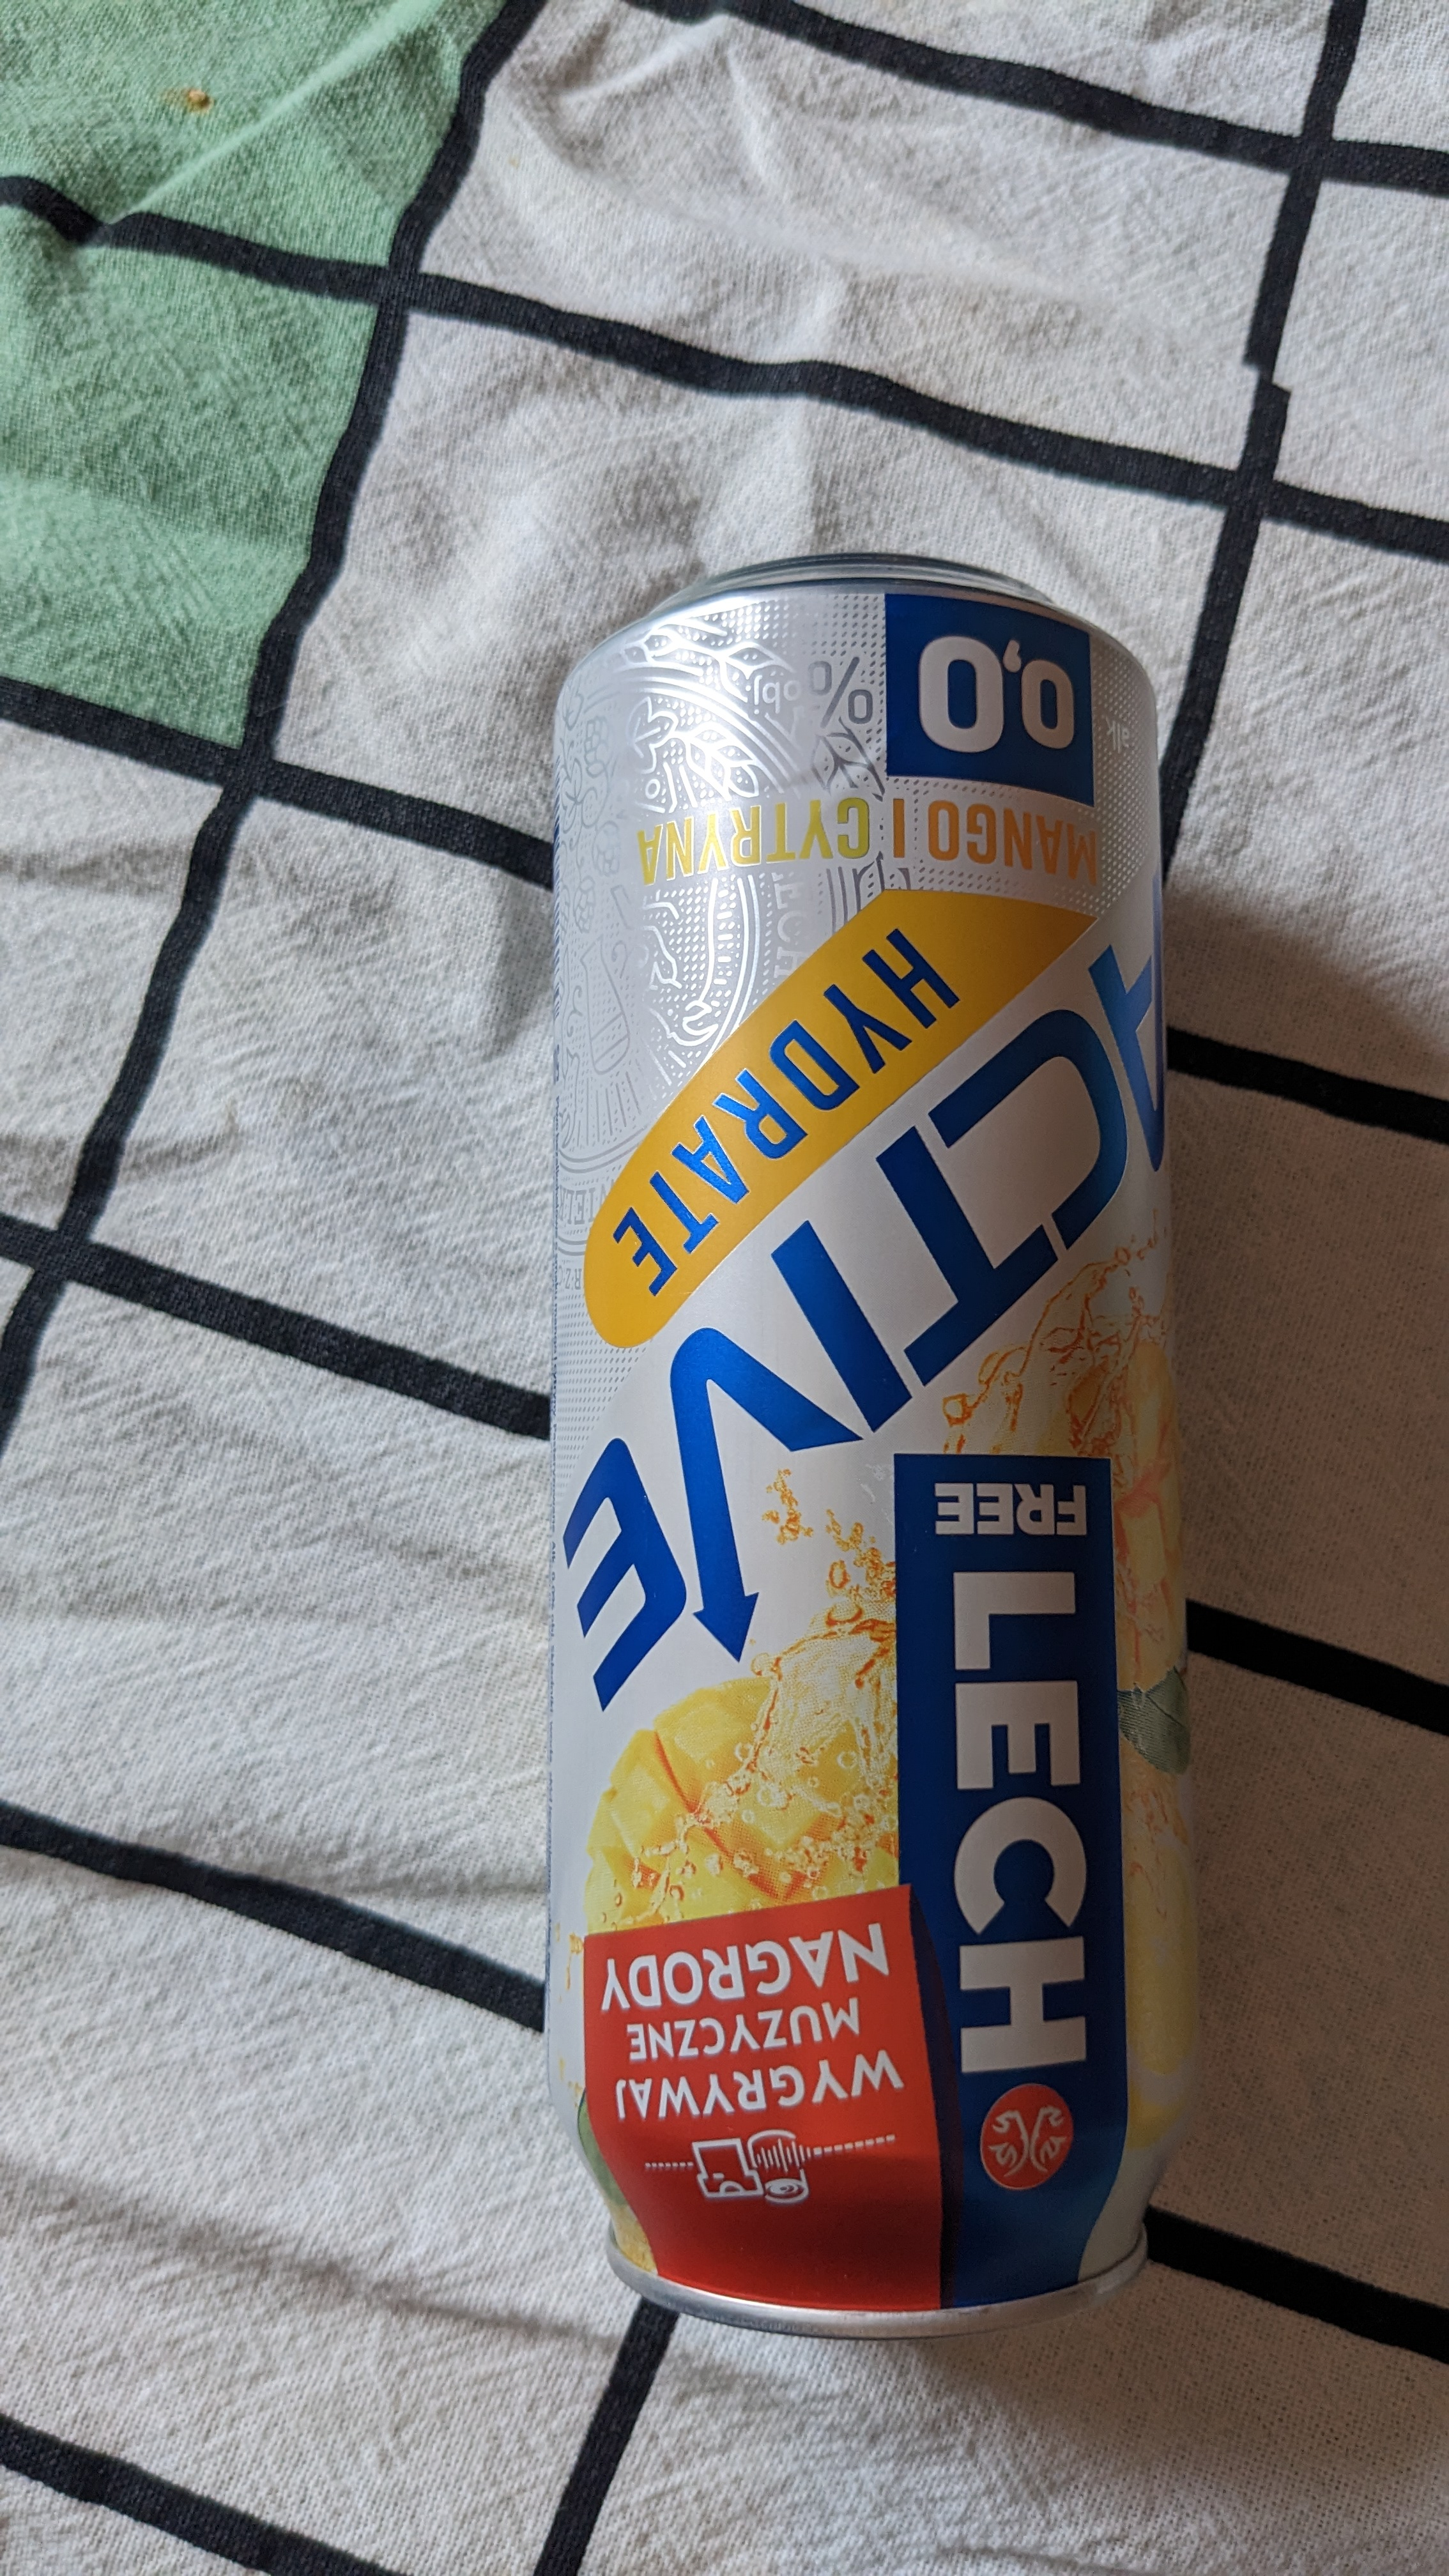lech-active: (511, 529, 1244, 2357)
